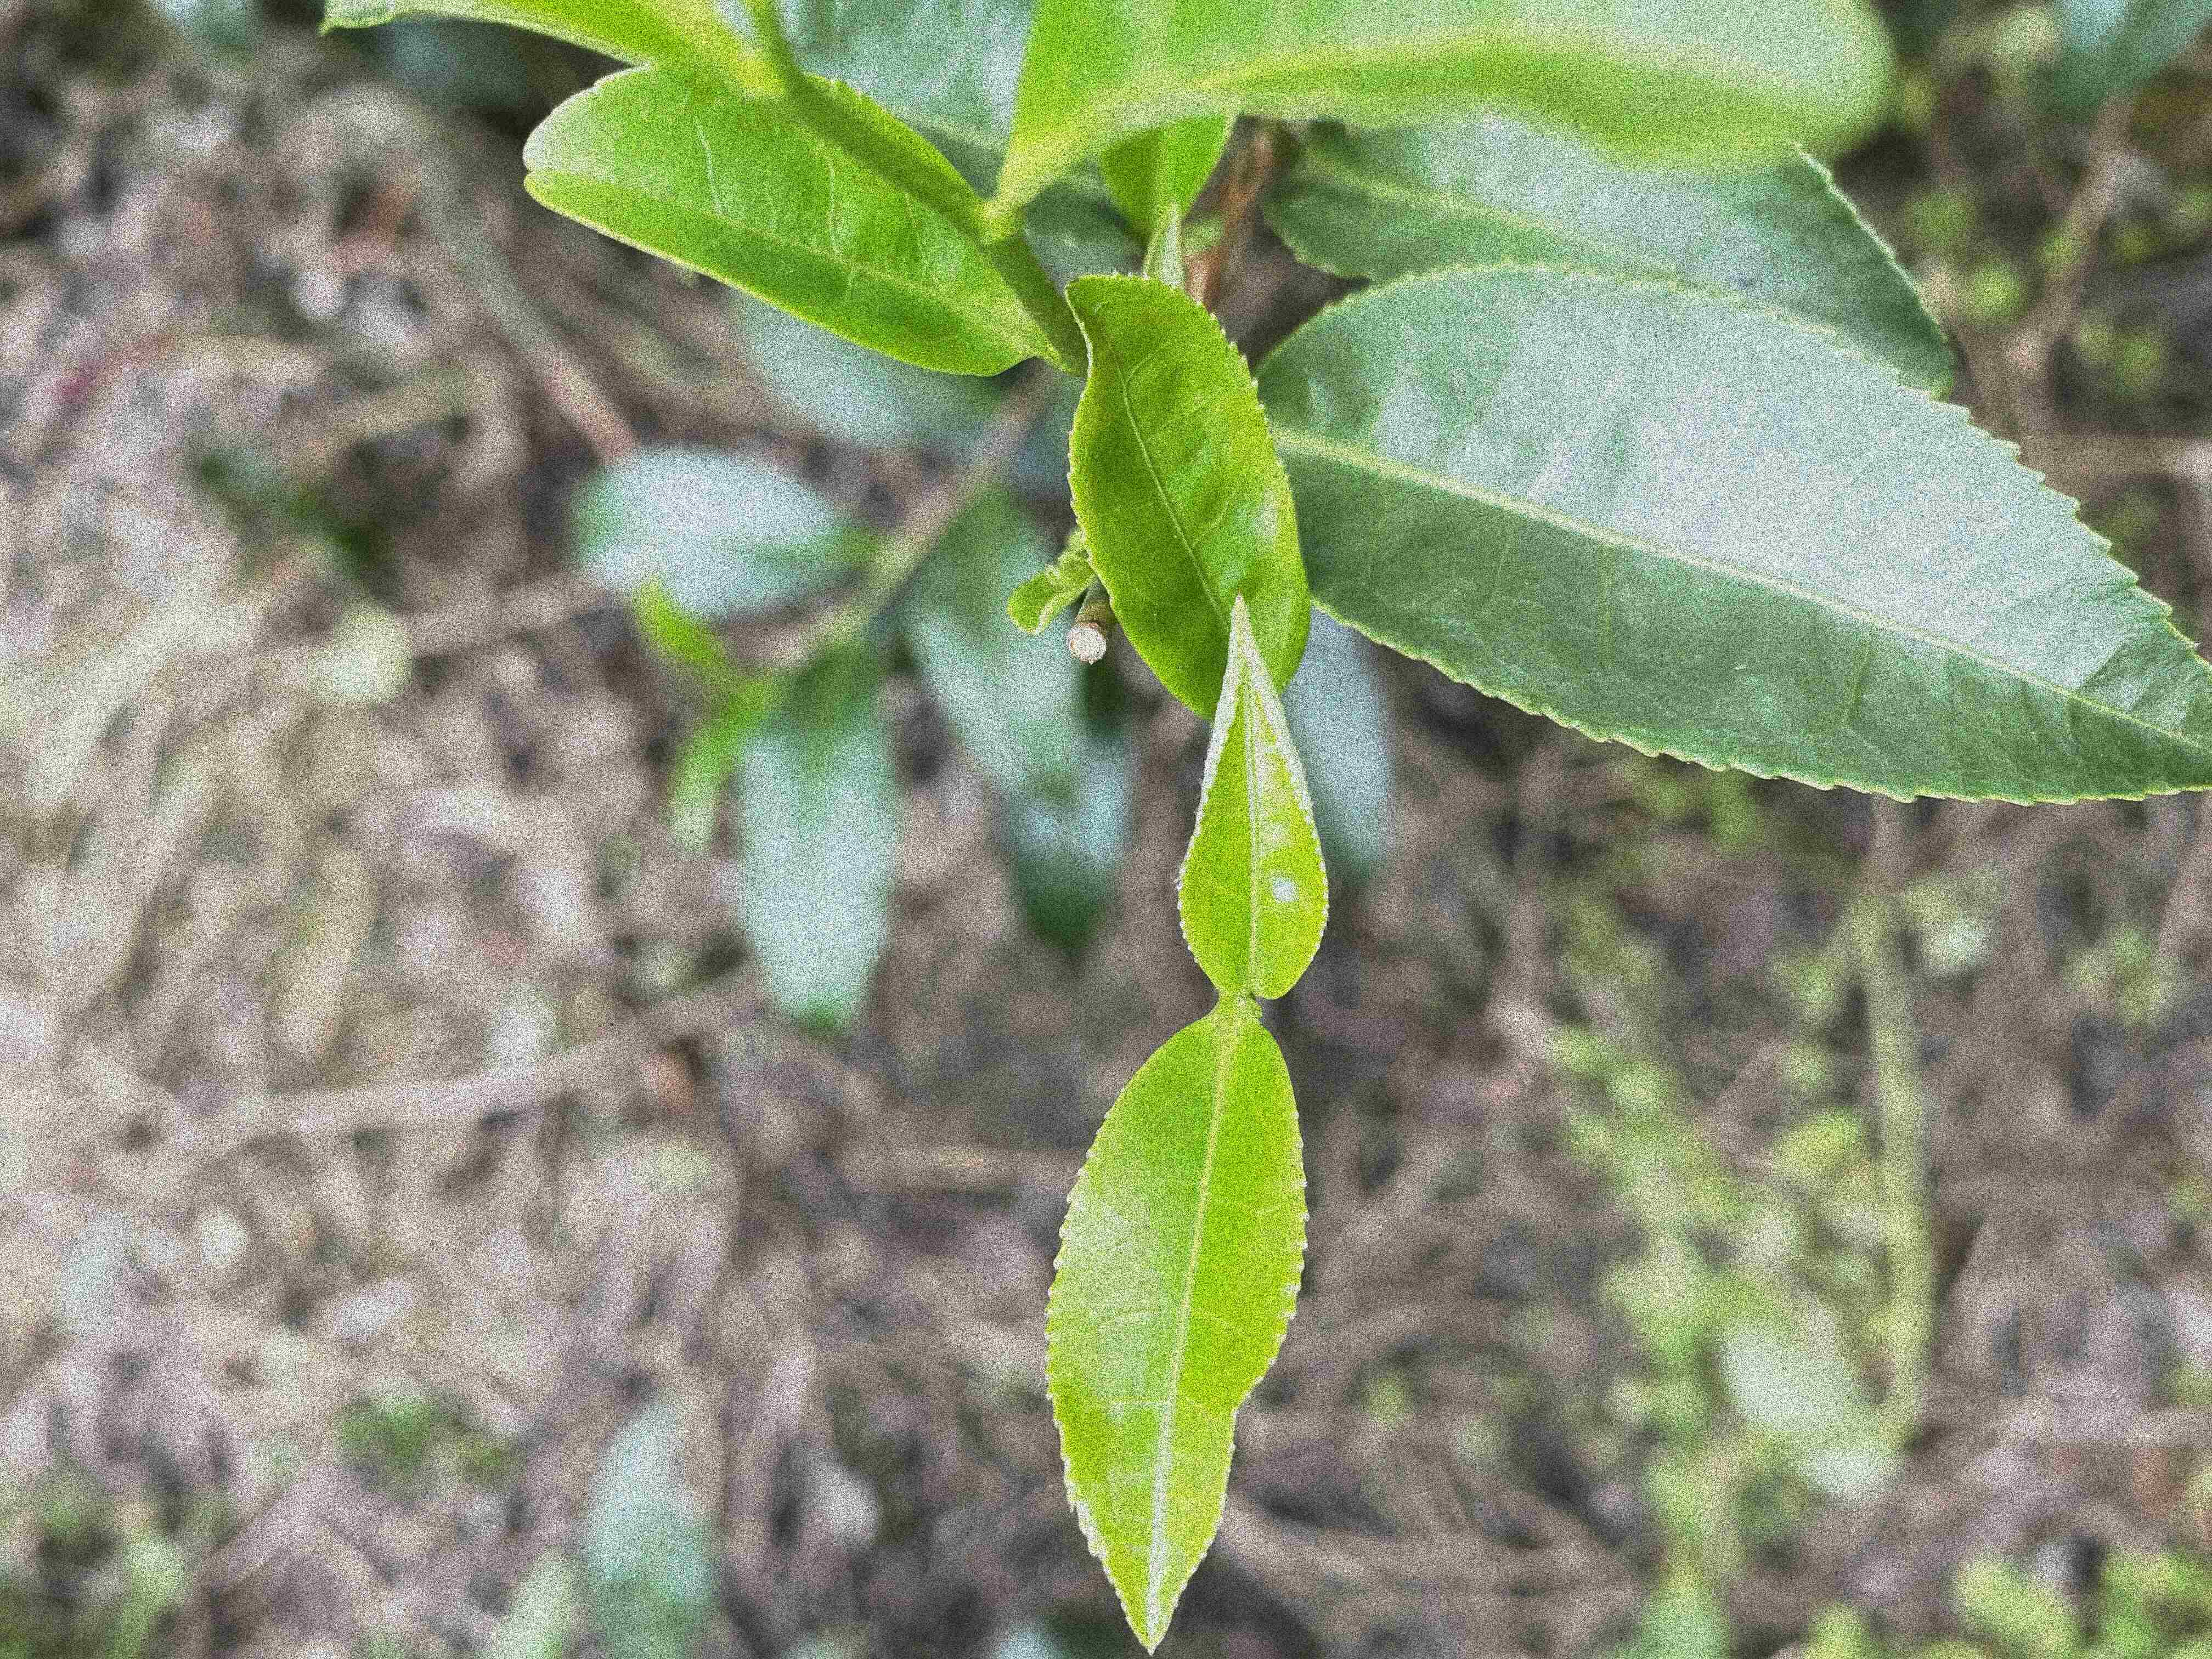healthy: (1261, 260, 2202, 812), (1042, 1006, 1312, 1656), (519, 54, 1055, 376), (1062, 268, 1312, 716), (1174, 594, 1331, 1000)
